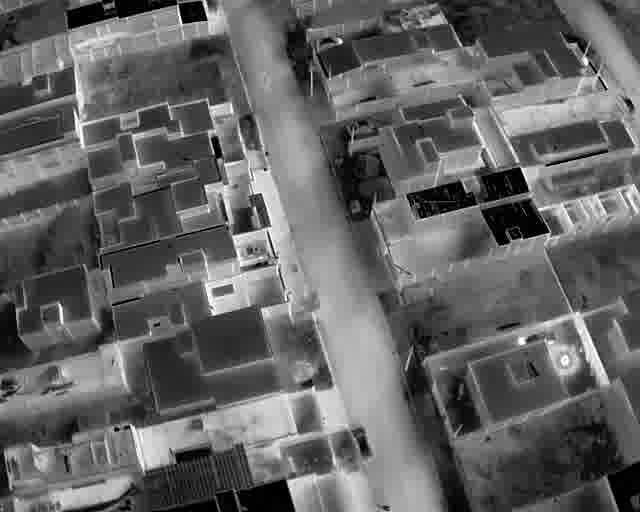car: (351, 424, 374, 458), (346, 117, 376, 136), (315, 36, 343, 53), (618, 92, 636, 115)
motorcycle: (376, 504, 392, 512)
